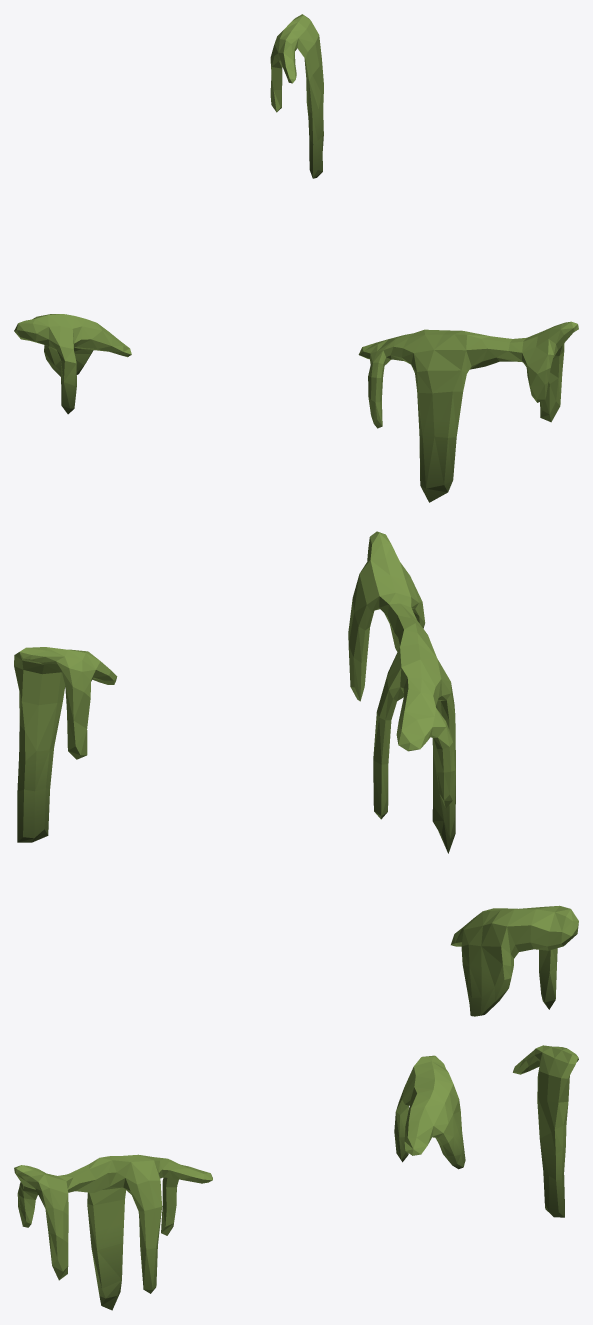
Rendered from JungleTree_Lrg_C_Grass.fbx.
The picture shows the model from 3 angles, top to bottom: view 1: azimuth 30°, elevation 25°; view 2: azimuth 150°, elevation 25°; view 3: azimuth 270°, elevation 25°; orthographic projection. The views are drawn at different scales.
Visible parts, largest first — view 1: JungleTree_Lrg_C_Grass; view 2: JungleTree_Lrg_C_Grass; view 3: JungleTree_Lrg_C_Grass.
Boxes of the visible parts, x1,y1,x2,y2 form: JungleTree_Lrg_C_Grass: [14, 14, 578, 502]; JungleTree_Lrg_C_Grass: [14, 531, 578, 1016]; JungleTree_Lrg_C_Grass: [14, 1045, 578, 1310].
Bounding box in the file's own units: 4.91 × 3.82 × 6.4.
